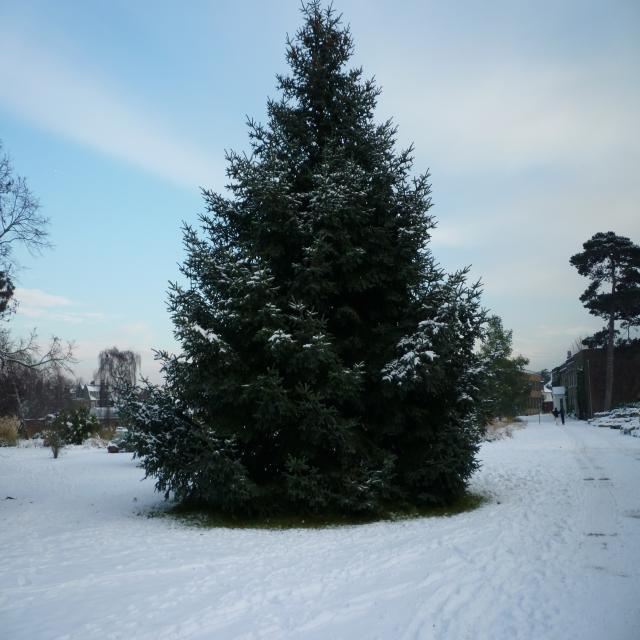Christmas-tree: (121, 0, 508, 533)
